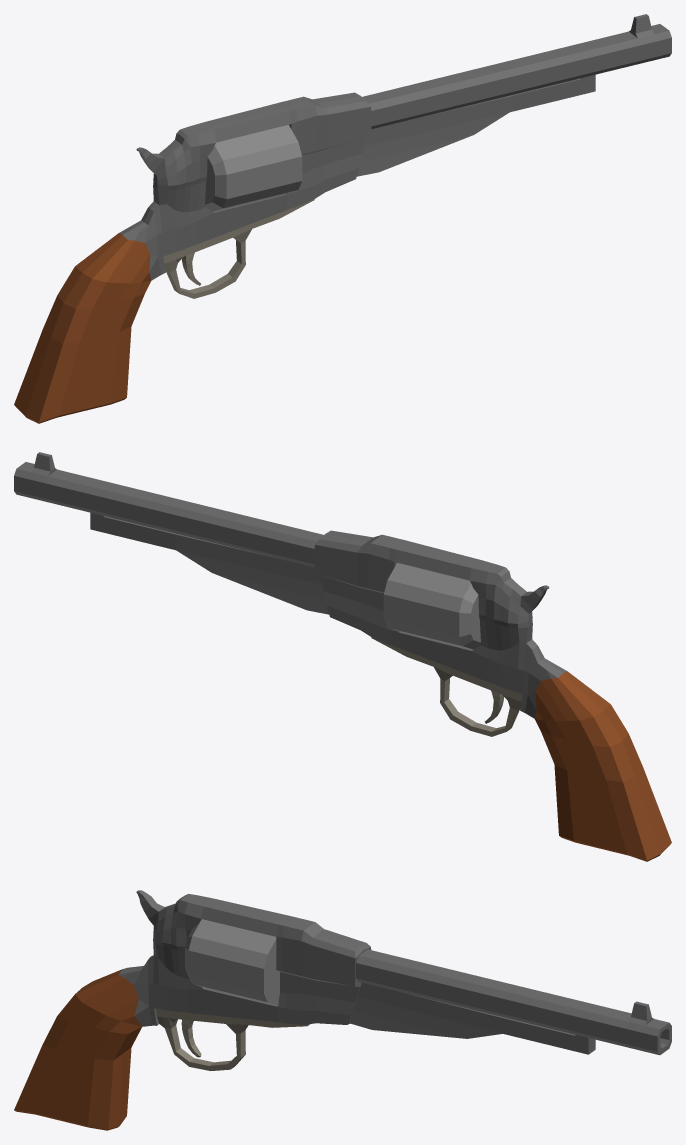
Rendered from remington1858.fbx.
3 views of the same model, one above another, from view 1: azimuth 30°, elevation 25°; view 2: azimuth 150°, elevation 25°; view 3: azimuth 330°, elevation 25° (orthographic).
Visible parts, largest first — view 1: body, ejector_housing, cylinder, trigger_guard; view 2: body, ejector_housing, cylinder, trigger_guard; view 3: body, ejector_housing, cylinder, trigger_guard.
Part boxes in pixels (x1,y1,x2,y2): body: (14,14,671,423); ejector_housing: (357,74,595,176); cylinder: (205,125,302,211); trigger_guard: (163,199,314,298); body: (14,452,671,861); ejector_housing: (90,512,328,614); cylinder: (383,563,480,649); trigger_guard: (371,637,522,736); body: (14,890,671,1130); ejector_housing: (349,982,595,1054); cylinder: (185,919,279,1005); trigger_guard: (155,1008,310,1070).
Bounding box in the file's own units: 469 × 176 × 48.54.
